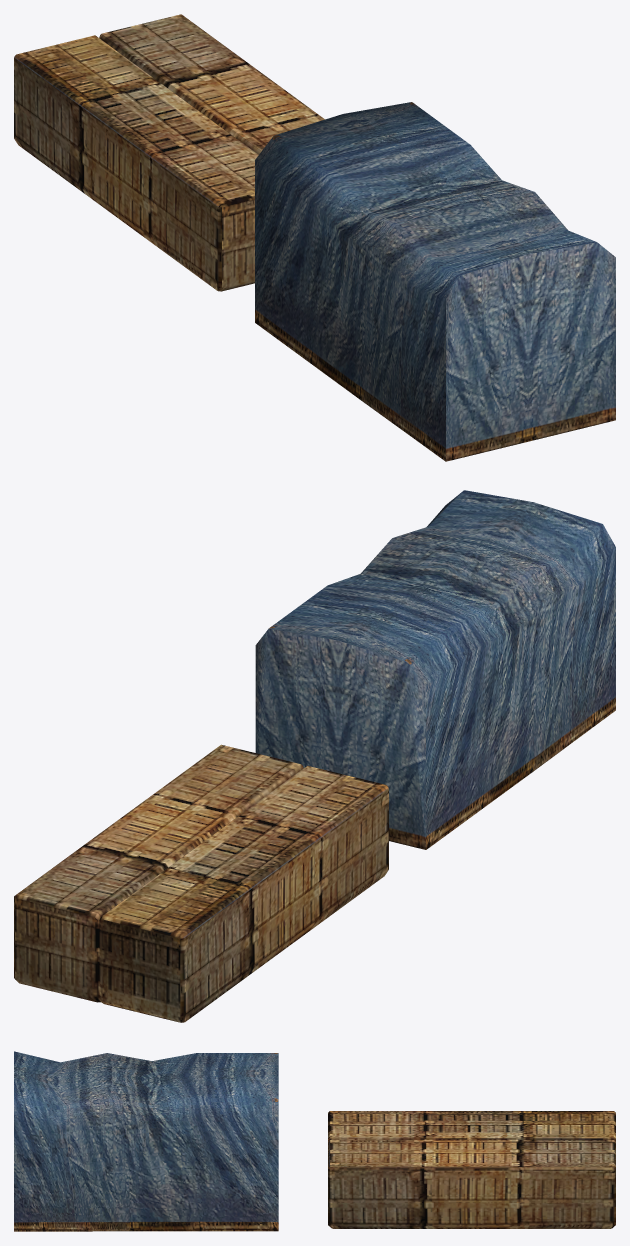
File: Model_Trains_Cargo_Small.fbx
3 renders of one model, top to bottom at view 1: azimuth 30°, elevation 25°; view 2: azimuth 150°, elevation 25°; view 3: azimuth 270°, elevation 25°, orthographic. The views are drawn at different scales.
Visible parts, largest first — view 1: Train_Transport_Case_LOD0; view 2: Train_Transport_Case_LOD0; view 3: Train_Transport_Case_LOD0.
Part boxes in pixels (x1=…): Train_Transport_Case_LOD0: x1=14, y1=14, x2=615, y2=461; Train_Transport_Case_LOD0: x1=14, y1=490, x2=615, y2=1022; Train_Transport_Case_LOD0: x1=14, y1=1051, x2=615, y2=1231.
Size of what is drawn, in the model's own units: 248 by 260 by 1089.
